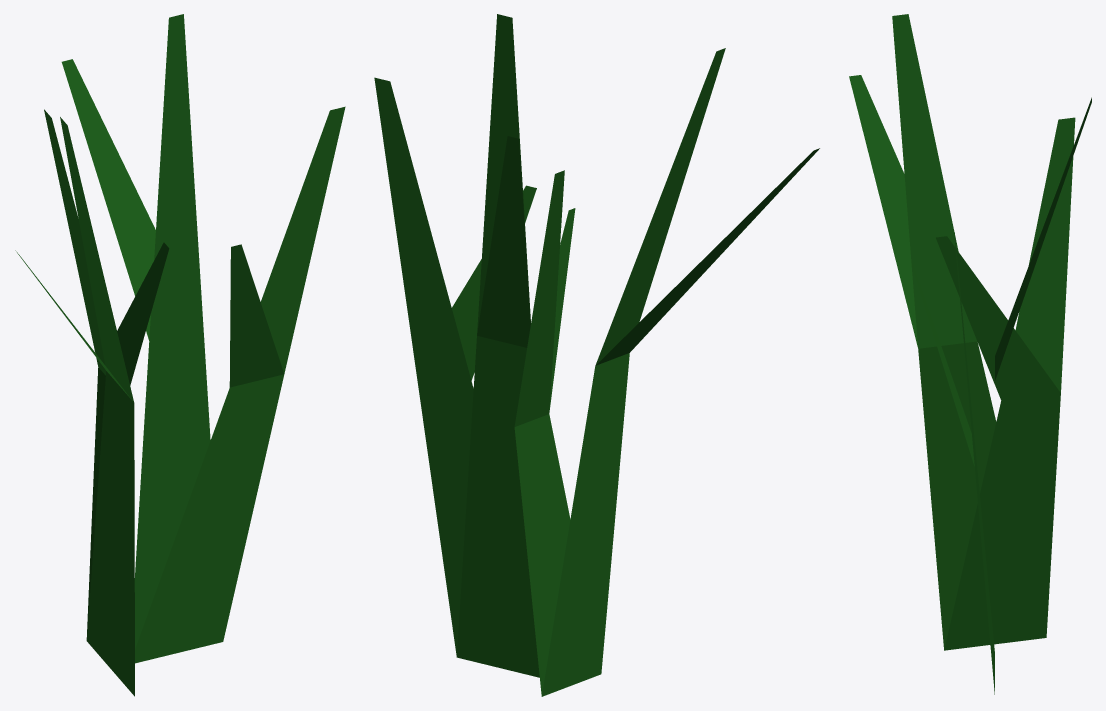
File: grass_blade_2.glb
The picture shows the model from 3 angles, left to right: view 1: azimuth 30°, elevation 25°; view 2: azimuth 150°, elevation 25°; view 3: azimuth 270°, elevation 25°; orthographic projection. The views are drawn at different scales.
Visible parts, largest first — view 1: Plane; view 2: Plane; view 3: Plane.
Part boxes in pixels (bbox=[...]): Plane: bbox=[15, 14, 345, 696]; Plane: bbox=[374, 14, 819, 696]; Plane: bbox=[849, 14, 1091, 694].
Size of the model in its own units: 0.3568 by 0.5784 by 0.2054.
